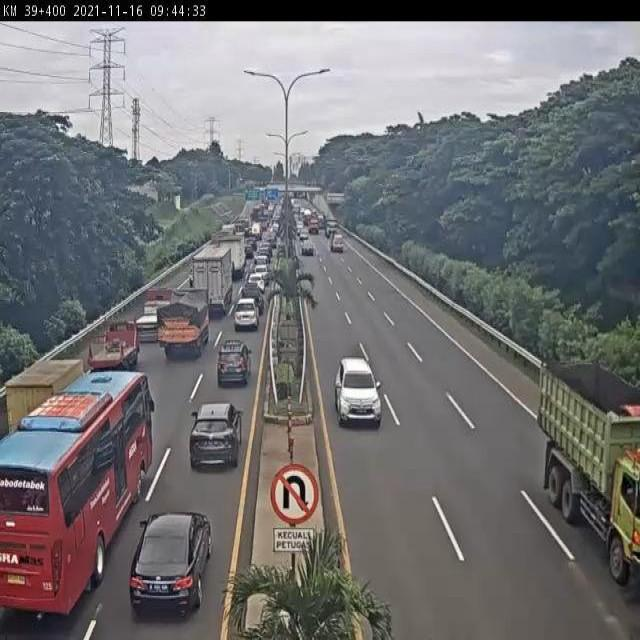big bus: (0, 372, 156, 615)
car: (129, 508, 214, 609), (187, 404, 242, 472), (335, 358, 382, 426), (216, 338, 247, 386), (232, 302, 257, 334), (241, 289, 264, 312), (247, 270, 266, 290)
small truck: (0, 358, 89, 442), (131, 277, 177, 340), (86, 317, 137, 372)
truck-l-: (537, 361, 640, 596), (191, 244, 234, 311)
truck-m-: (155, 291, 207, 360), (215, 239, 243, 280)
